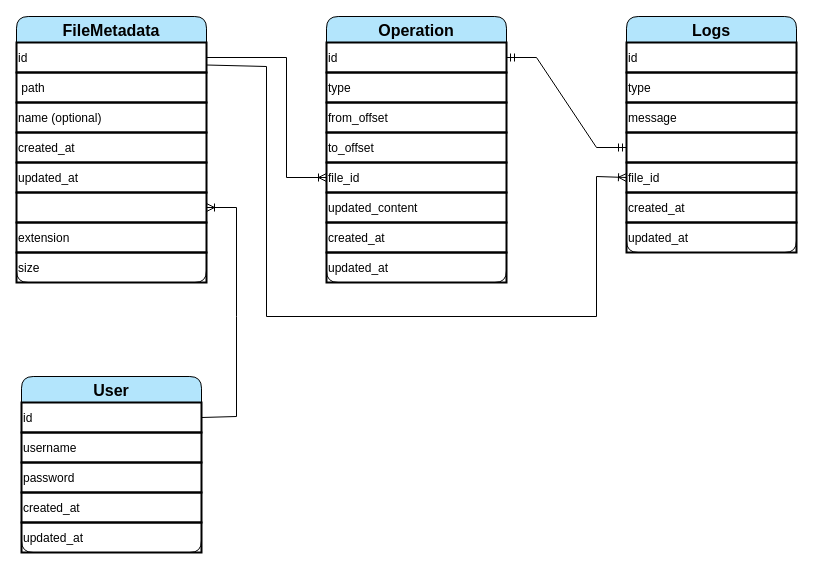
Some shapes in this 813 by 569 pixel diagram are drawn without their labels. Here are the shapes that lost their labels. From the top down, the centre of each, then its label:
At point (711, 147): "operation_id".
At point (111, 207): "owner: userId".
